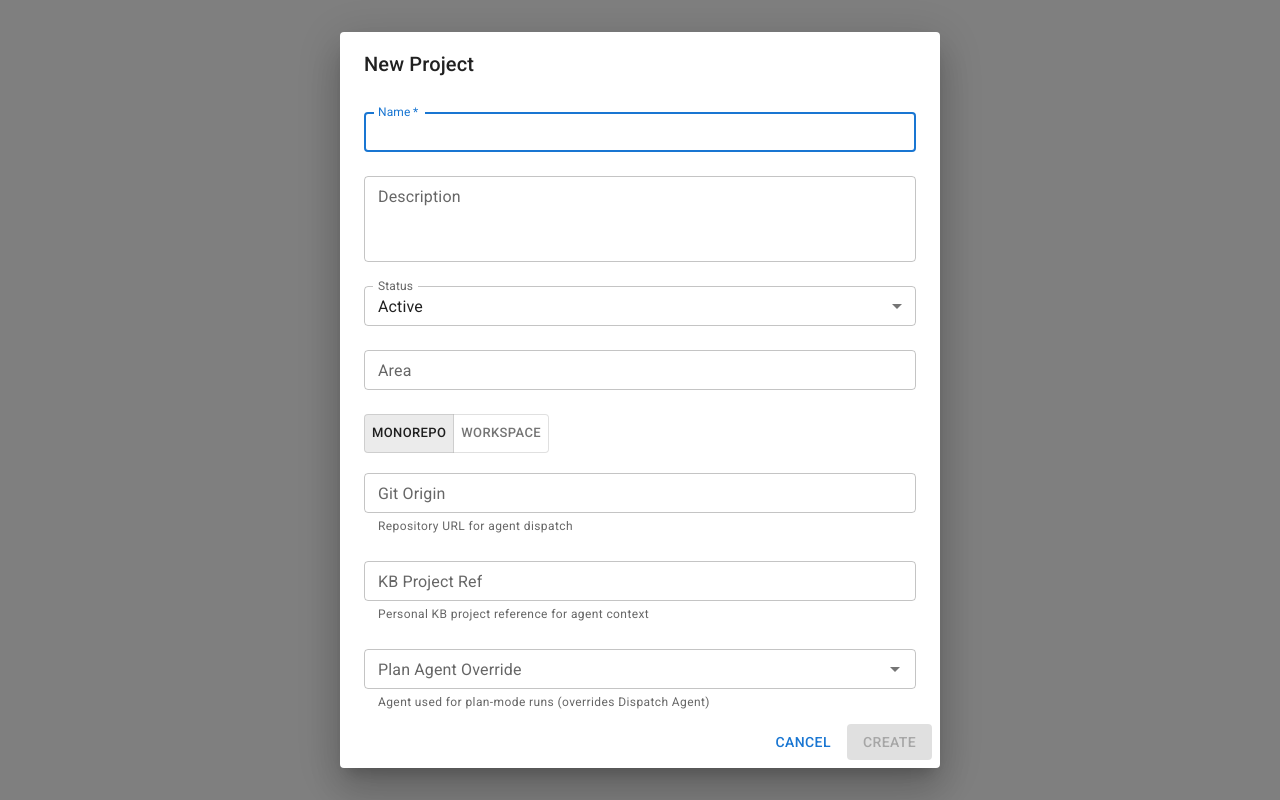
it: ProjectEditDialog › (b) switching to Workspace mode › removes the Git Origin field and renders exactly one empty Repo URL row
The width and height of the screenshot is (1280, 800).
Click the button "Workspace".
click(501, 433)  # box 453,414 -> 549,453
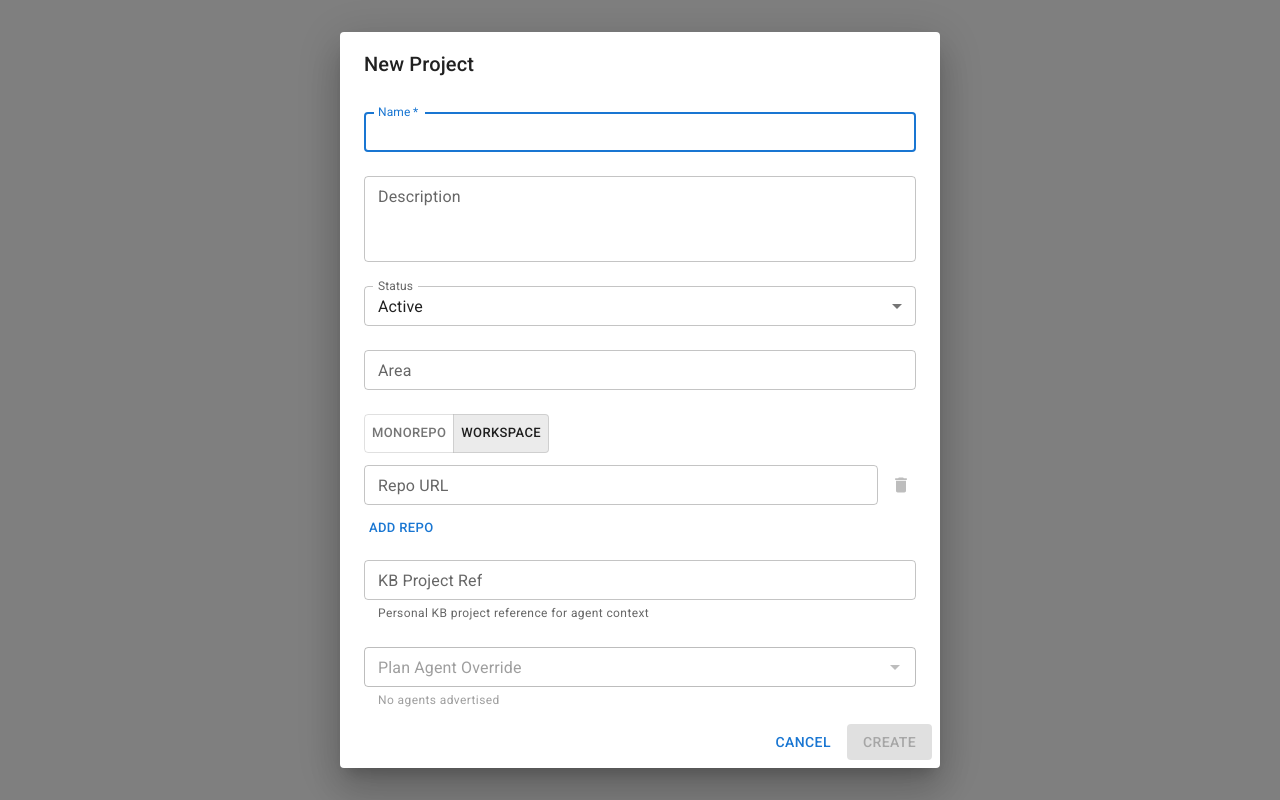
Now the label labelled "Git Origin" is gone
Now the number of fields labelled "Repo URL" is 1, box 364,465 -> 878,505
Now the field labelled "Repo URL" is empty, box 364,465 -> 878,505
